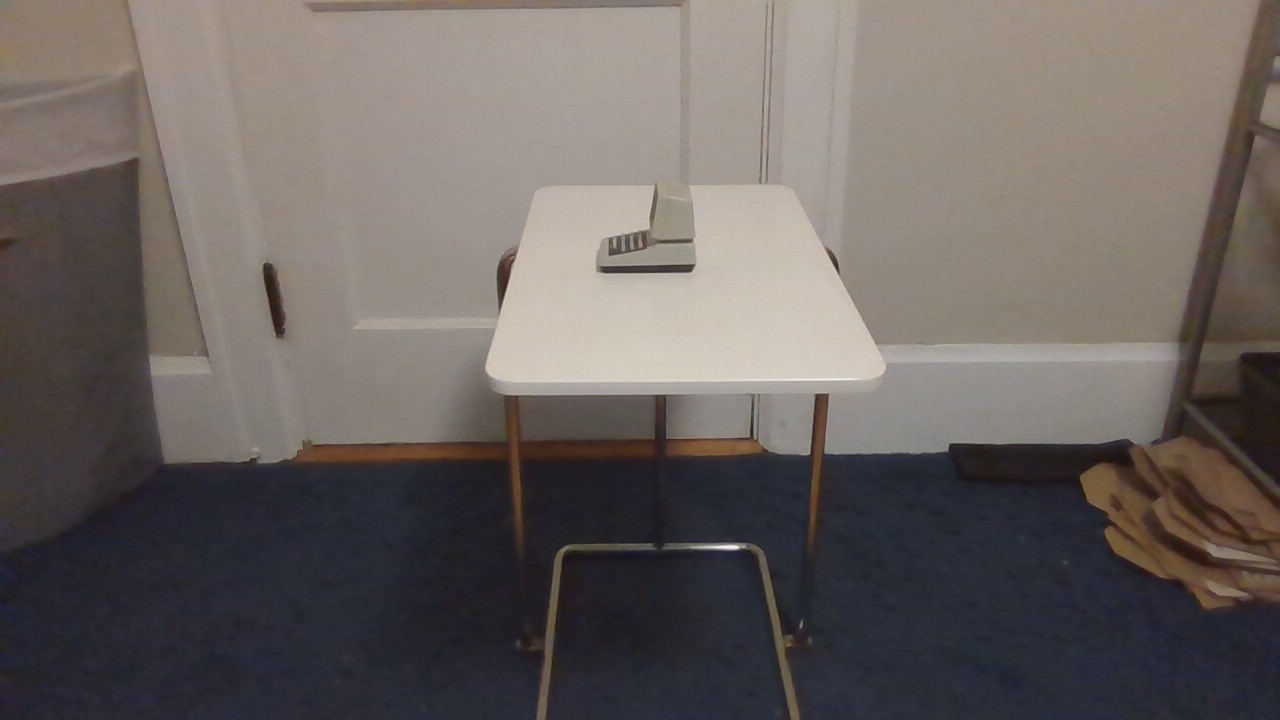Toy: (558, 160, 730, 295)
